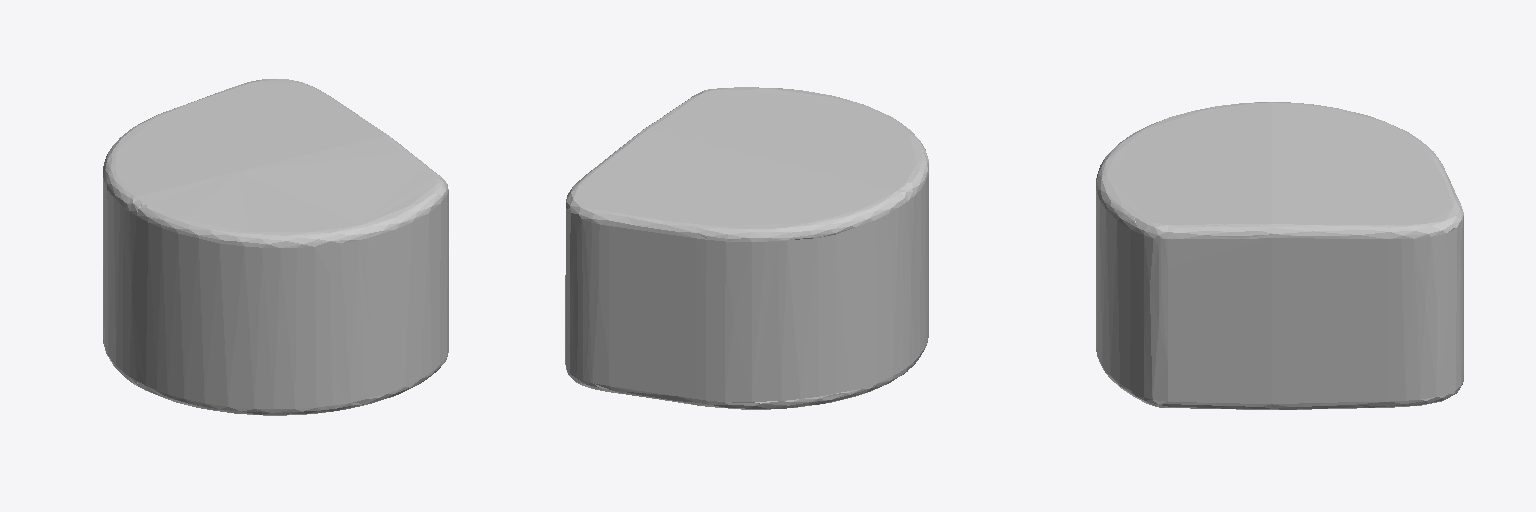
File: wrist_flex.obj
The picture shows the model from 3 angles: view 1: azimuth 30°, elevation 25°; view 2: azimuth 150°, elevation 25°; view 3: azimuth 270°, elevation 25°; orthographic projection.
Visible parts, largest first — view 1: wrist_flex_M_wrist_flex_MShape; view 2: wrist_flex_M_wrist_flex_MShape; view 3: wrist_flex_M_wrist_flex_MShape.
Boxes of the visible parts, <box> form: wrist_flex_M_wrist_flex_MShape: <box>103,79,448,415</box>; wrist_flex_M_wrist_flex_MShape: <box>565,87,928,409</box>; wrist_flex_M_wrist_flex_MShape: <box>1096,102,1463,409</box>.
Size of the model in its own units: 0.0657 by 0.0434 by 0.0782.